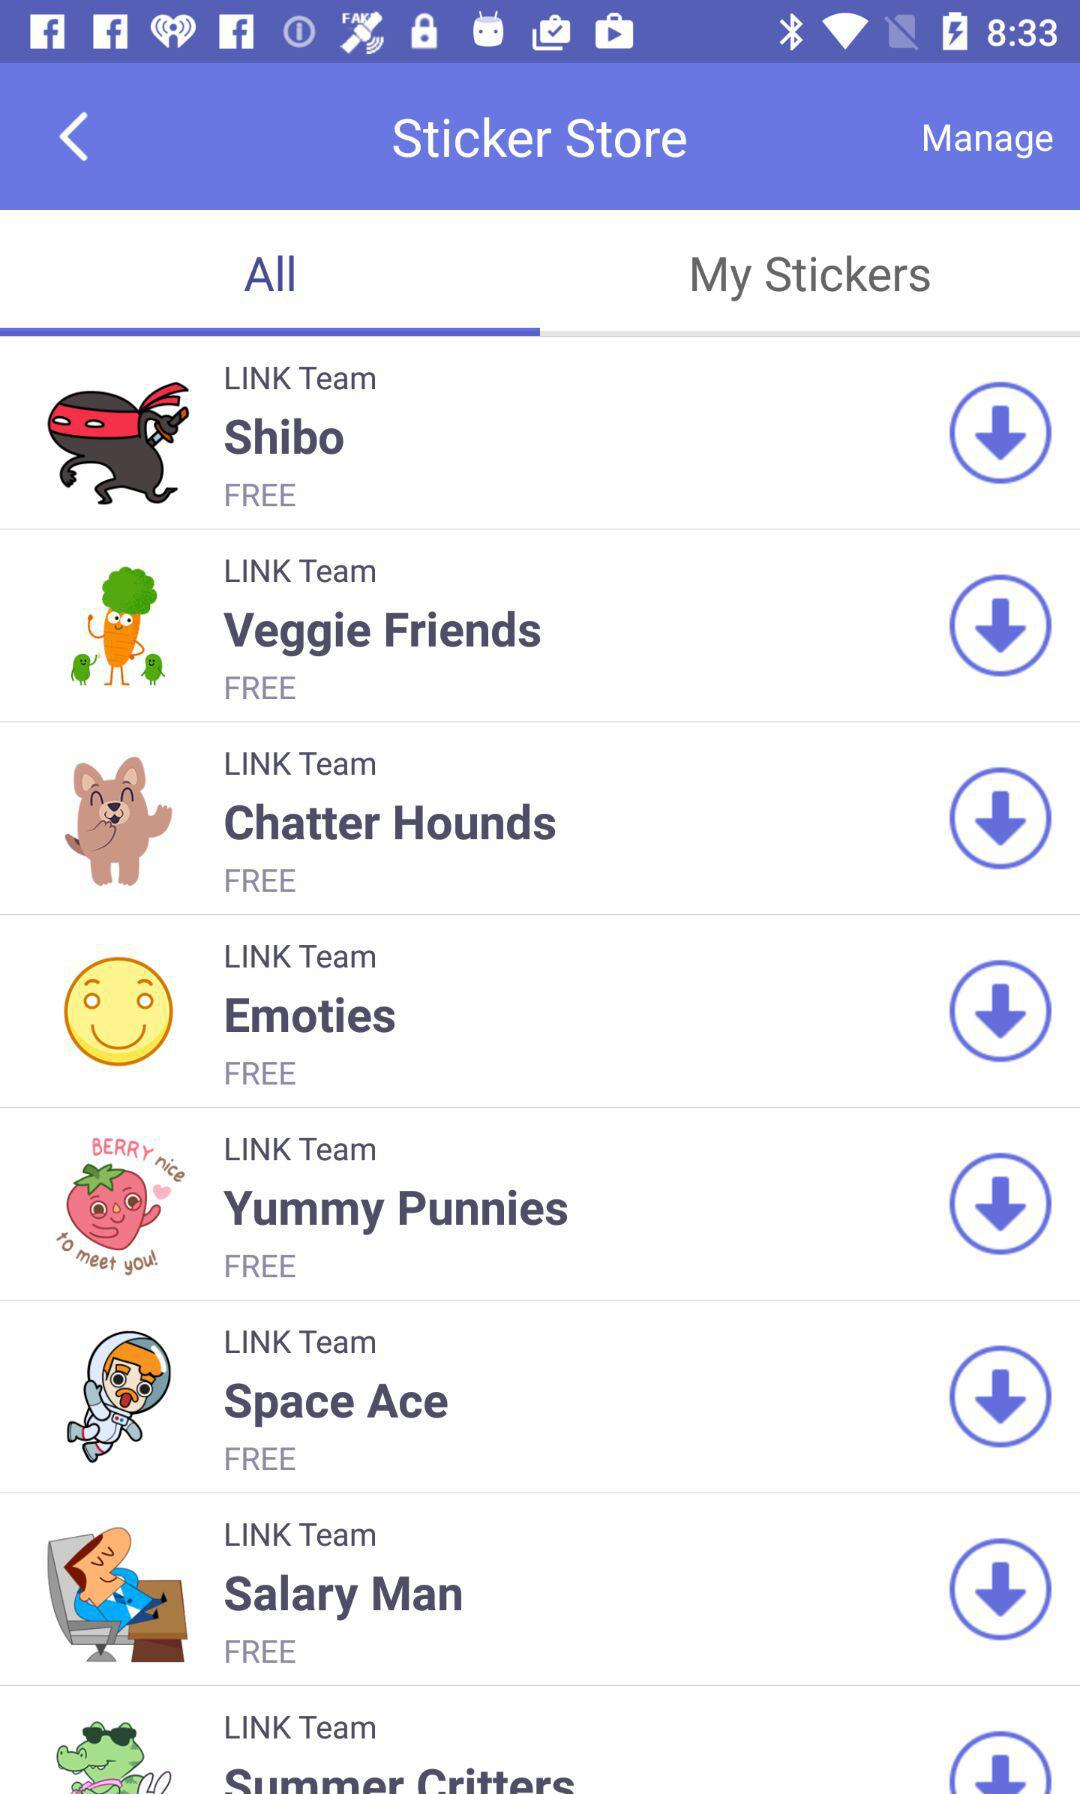Icon: (948, 1344, 1053, 1449), (948, 1152, 1053, 1257), (948, 959, 1053, 1064), (948, 766, 1053, 871), (948, 574, 1053, 679), (948, 381, 1053, 486), (949, 1536, 1053, 1642), (949, 1730, 1053, 1794), (58, 111, 91, 163)
Image: (46, 1525, 190, 1665), (55, 1135, 187, 1278), (47, 381, 192, 509), (61, 753, 176, 888), (67, 1330, 173, 1463), (63, 956, 176, 1067), (69, 564, 169, 689), (56, 1720, 173, 1794)
Multi_Tab: (1, 211, 1080, 337)
Text: (223, 1189, 568, 1237), (223, 610, 542, 659), (392, 117, 688, 161), (225, 802, 557, 842), (692, 254, 931, 302), (225, 1574, 462, 1622), (225, 1381, 450, 1429), (225, 1766, 575, 1794), (225, 996, 397, 1035), (224, 416, 346, 457), (922, 124, 1054, 161), (225, 1328, 377, 1357), (225, 943, 377, 970), (225, 557, 377, 584), (225, 1715, 377, 1740), (225, 1522, 377, 1548), (225, 1137, 377, 1162), (225, 751, 377, 777), (225, 366, 377, 392), (243, 255, 296, 293), (224, 1060, 297, 1087), (225, 868, 299, 894), (225, 1638, 297, 1665), (225, 1445, 297, 1471), (225, 675, 297, 701), (225, 484, 299, 509), (225, 1255, 297, 1279)
Toolbar: (1, 65, 1079, 210)
UpperTaskBar: (1, 1, 1080, 64)
